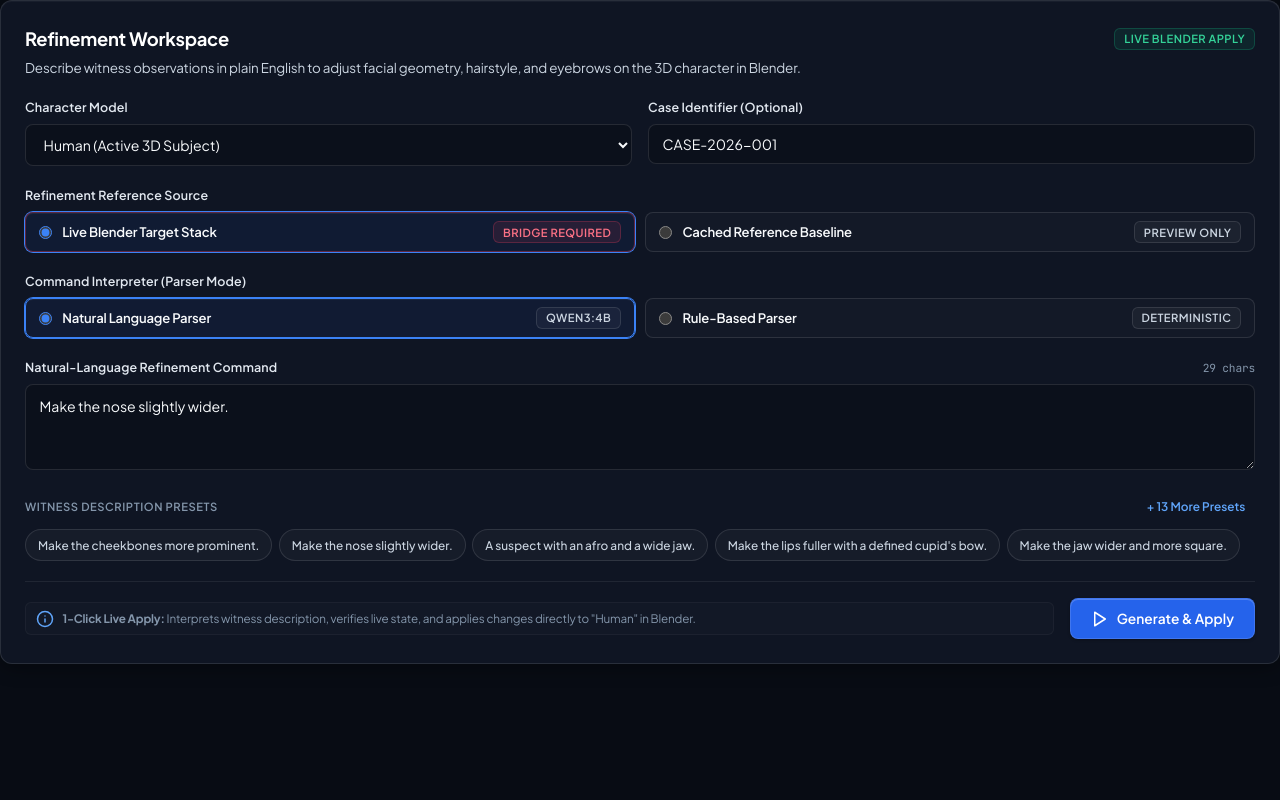
RefinementForm Component › populates text input when clicking an example chip
Click the button "Make the cheekbones more prominent.".
click(149, 546)  # box [25,530,272,562]
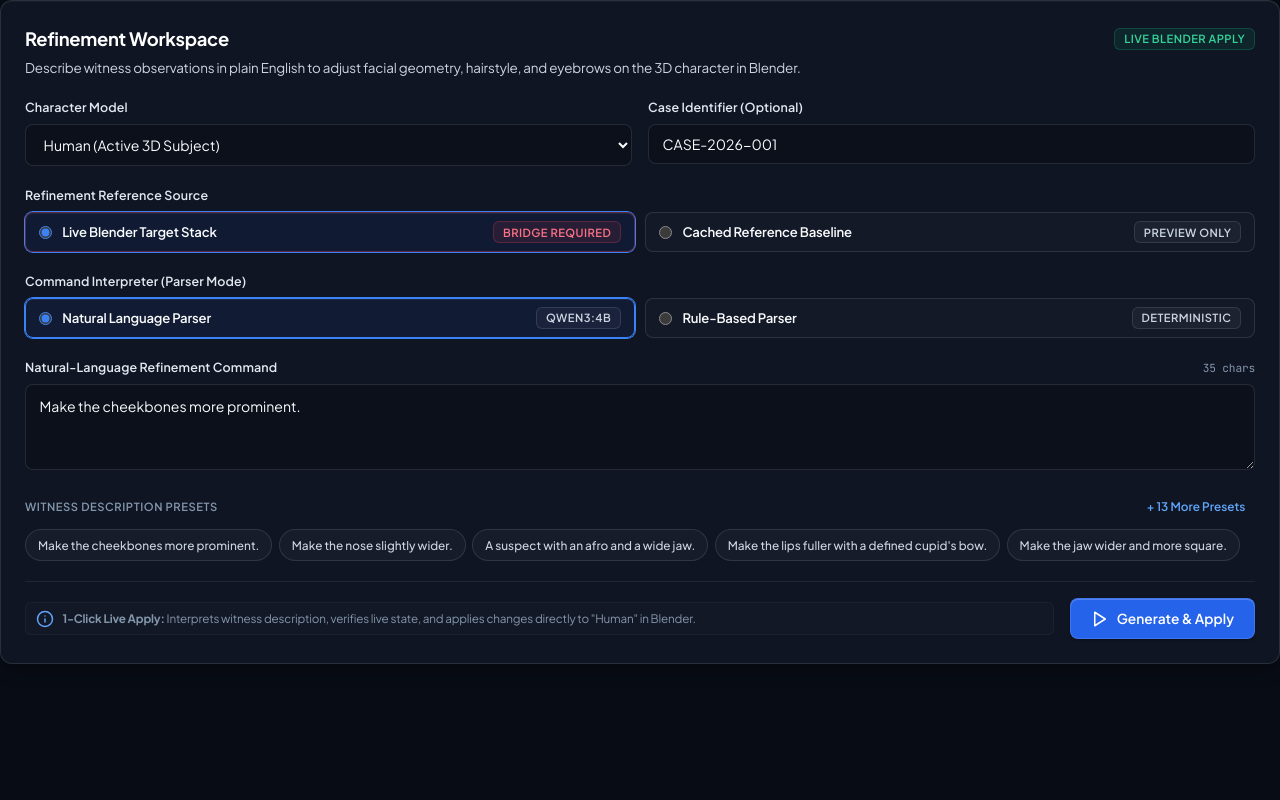
Result: the text box labelled "Natural-Language Refinement Command" holds "Make the cheekbones more prominent." at [25,384,1255,470]
